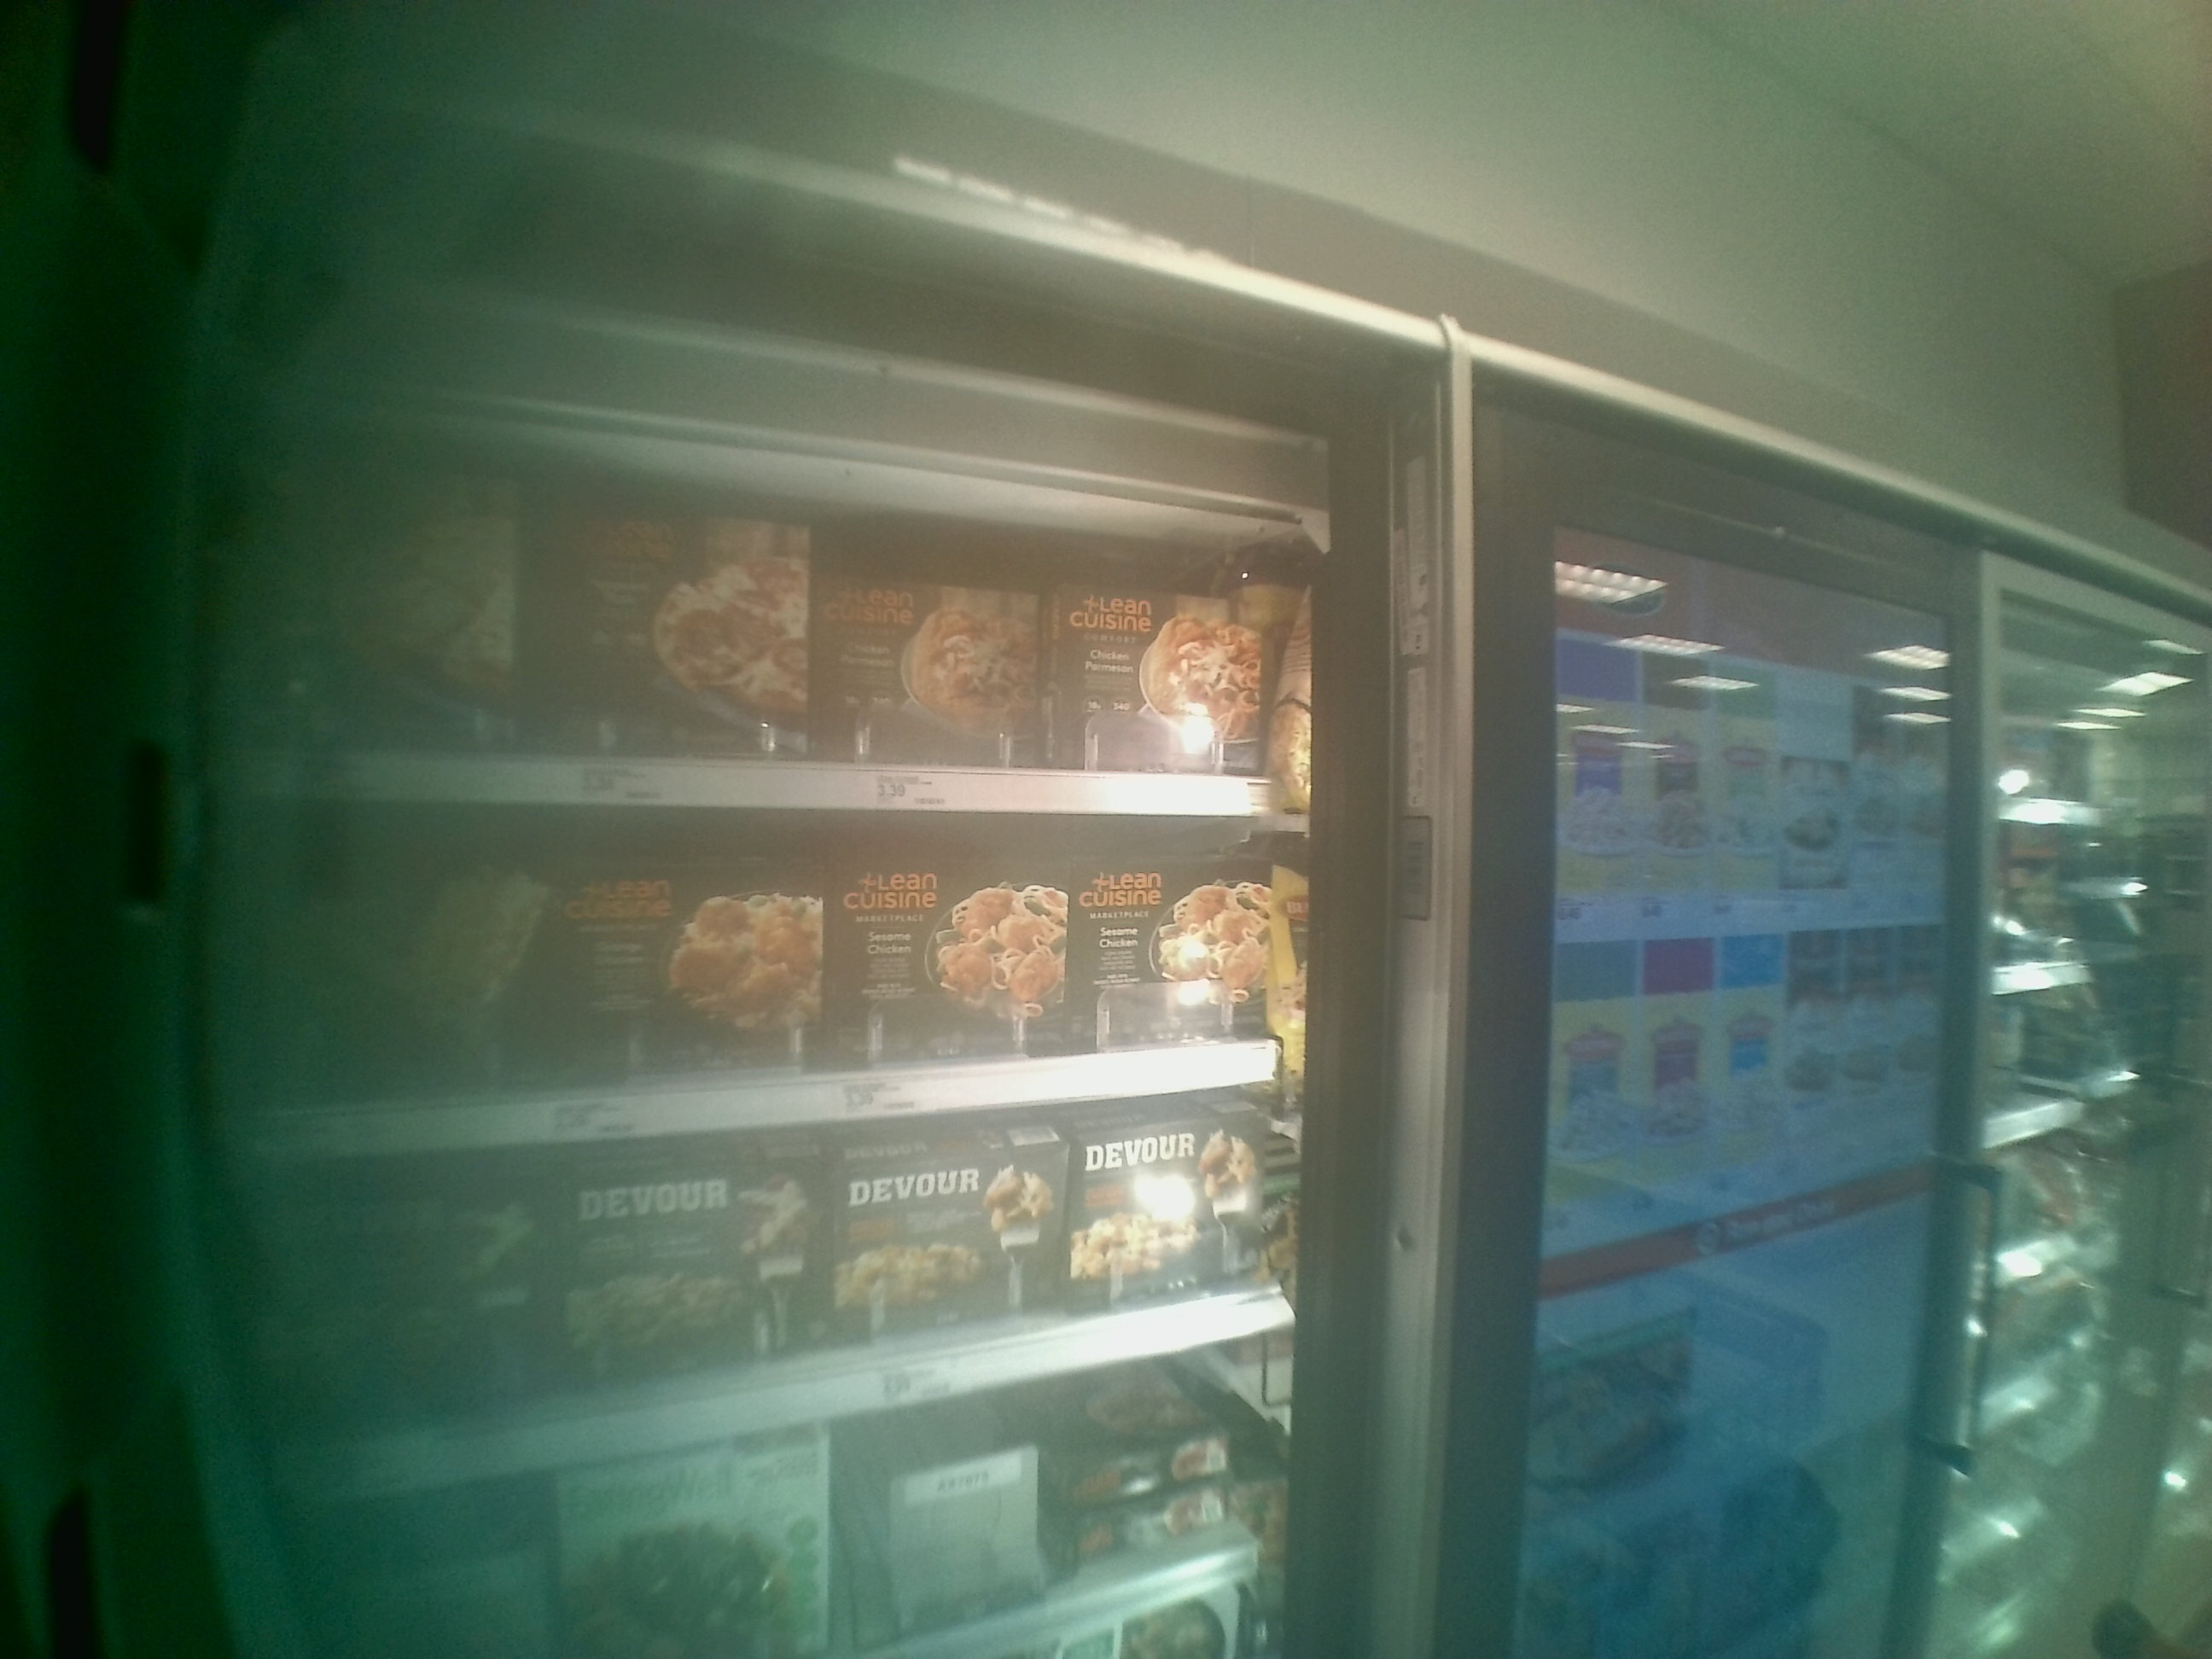shelf: (249, 408, 1303, 817), (239, 807, 1305, 1178)
